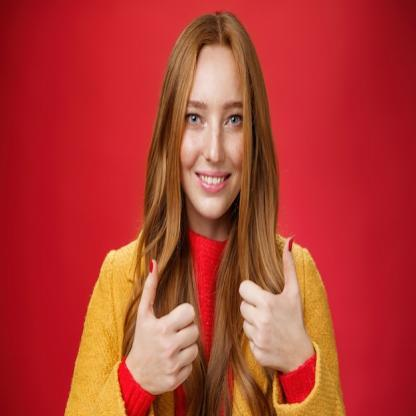thumb_up: (236, 230, 315, 378), (134, 256, 203, 398)
